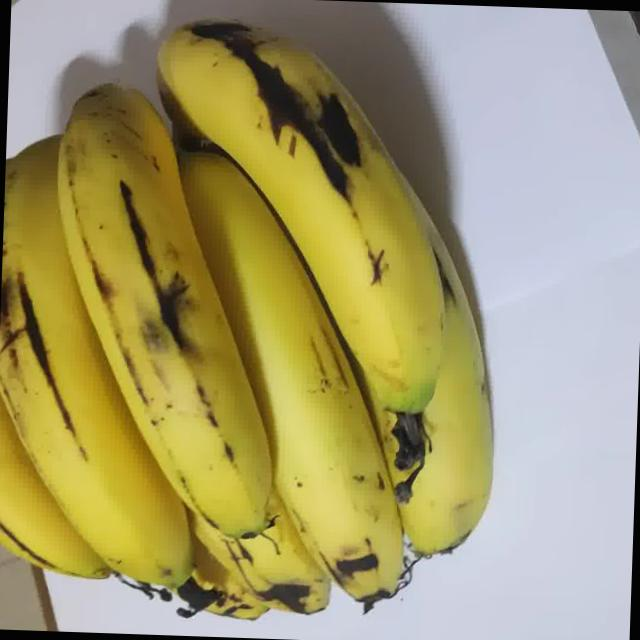banana_pacche: (0, 2, 534, 640)
